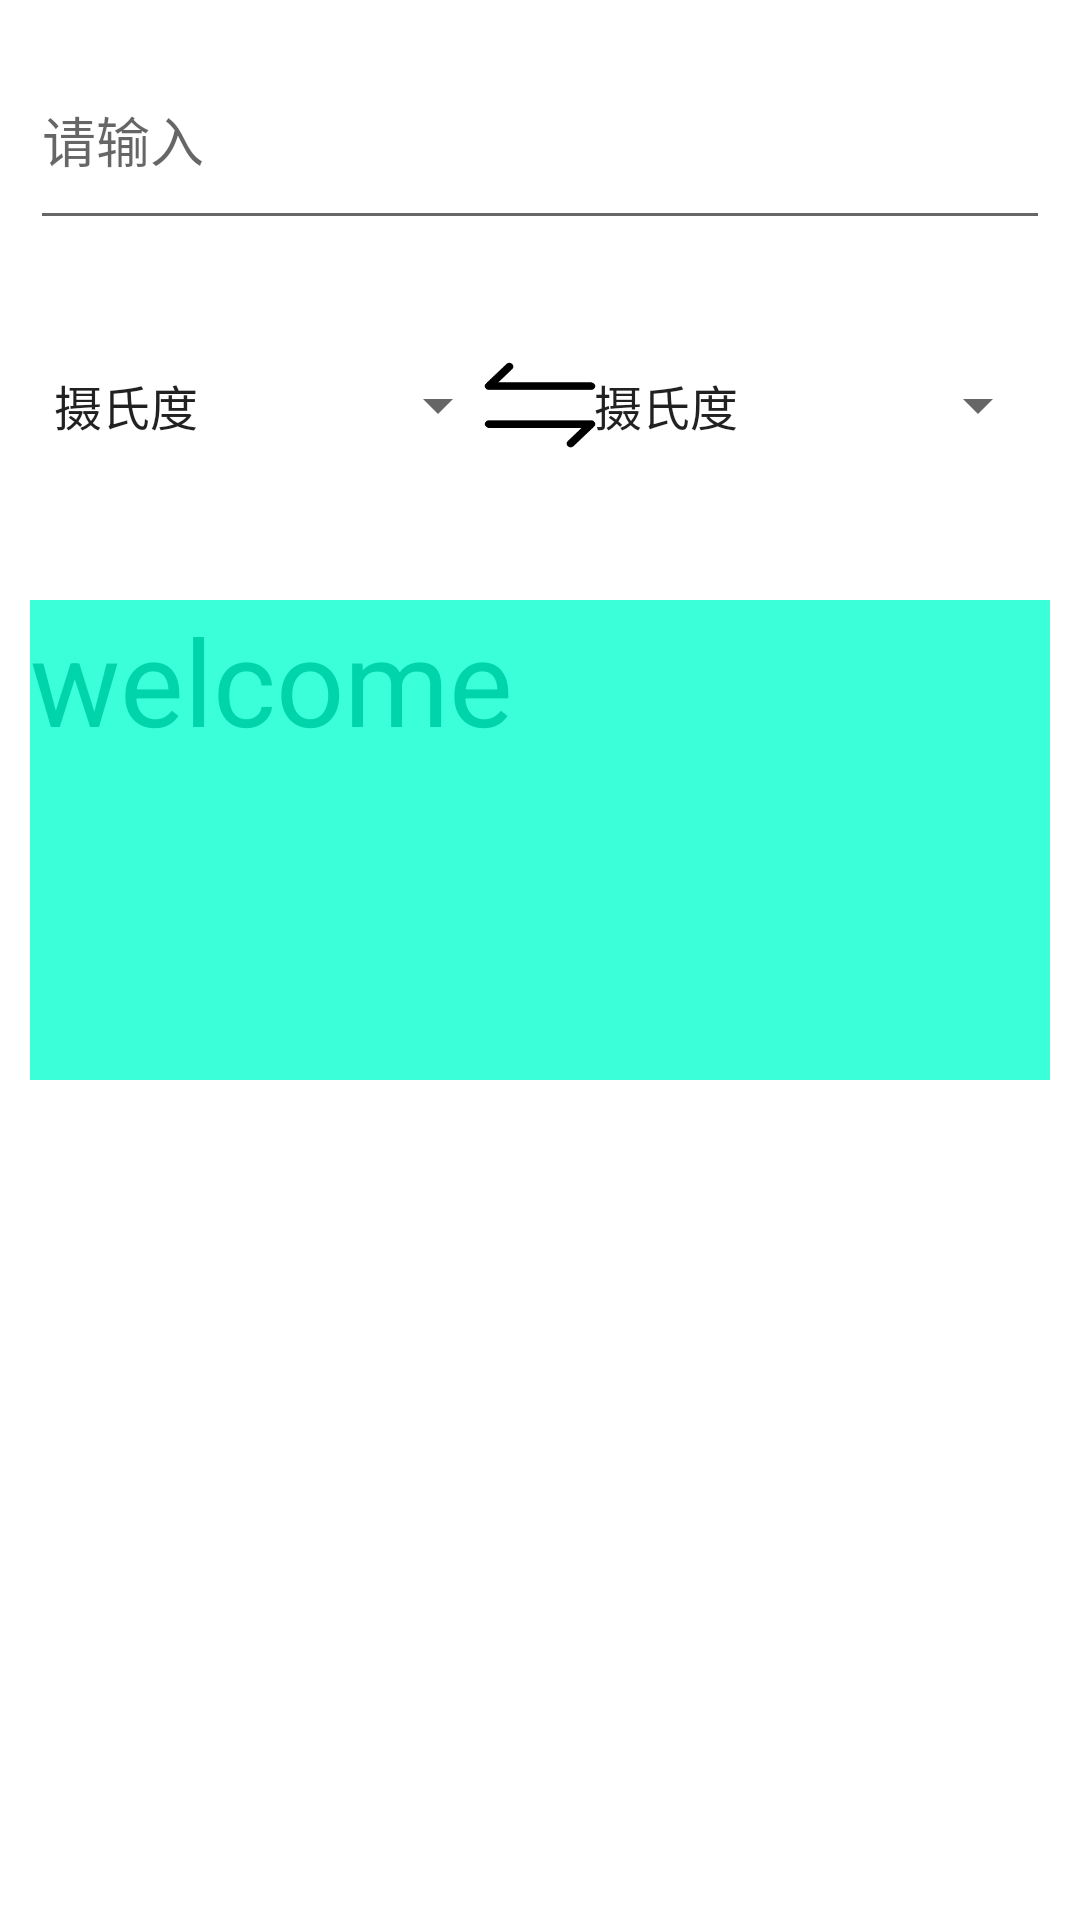

Named icons in this screenshot (1080px×1920px) and their bounding boxes, rect(x1, y1, x2, y2):
change: rect(484, 362, 596, 448)
